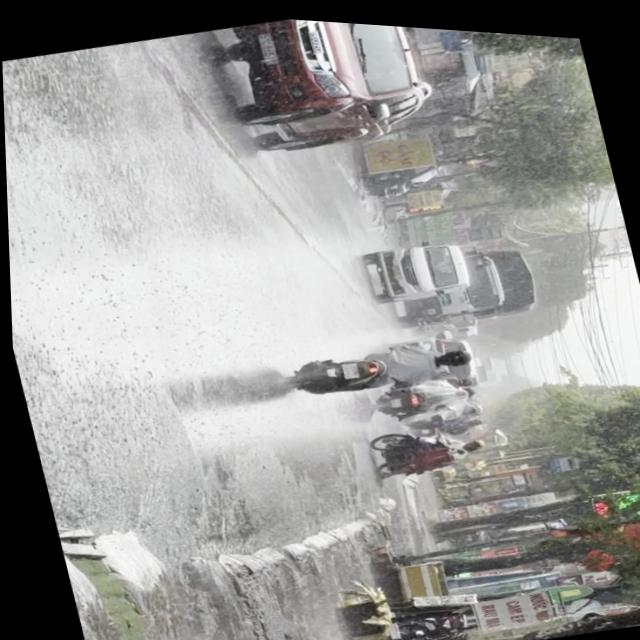helmet: (433, 339, 471, 364)
licenseplate: (274, 314, 476, 409)
nohelmet: (338, 356, 358, 375)
